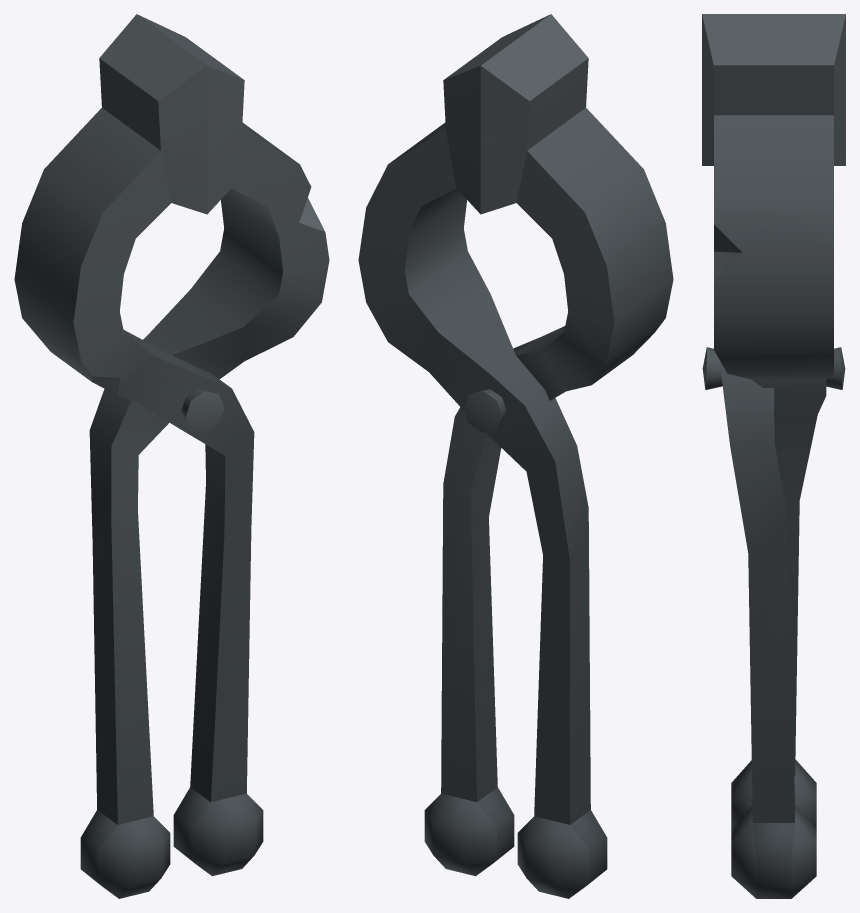
Rendered from tongs.glb.
The picture shows the model from 3 angles, left to right: view 1: azimuth 30°, elevation 25°; view 2: azimuth 150°, elevation 25°; view 3: azimuth 270°, elevation 25°; orthographic projection.
Parts seen in each view (by area): view 1: tongs, tongs_part; view 2: tongs, tongs_part; view 3: tongs_part, tongs.
Part boxes in pixels (x1=…): tongs: x1=14, y1=14, x2=263, y2=876; tongs_part: x1=80, y1=15, x2=329, y2=898; tongs: x1=424, y1=14, x2=673, y2=876; tongs_part: x1=358, y1=15, x2=607, y2=898; tongs_part: x1=702, y1=14, x2=845, y2=828; tongs: x1=702, y1=347, x2=845, y2=898.
Size of the model in its own units: 0.4114 by 1.29 by 0.1964.
1 material, 1 textured.
